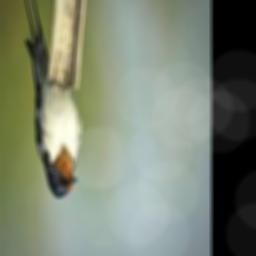Swallow: (23, 0, 82, 197)
